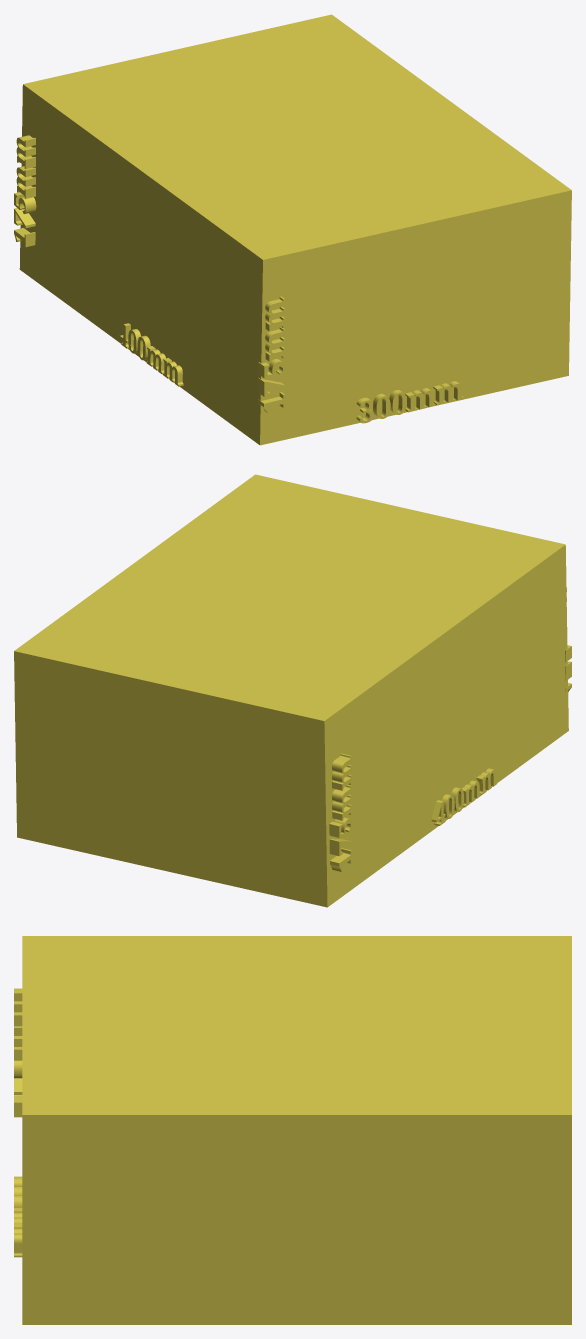
Rendered from SwankyVihelmo.glb.
3 views of the same model, one above another, from view 1: azimuth 30°, elevation 25°; view 2: azimuth 150°, elevation 25°; view 3: azimuth 270°, elevation 25° (orthographic). The views are drawn at different scales.
Parts seen in each view (by area): view 1: Mesh_Mesh_head_geo.001_lambert2SG.001; view 2: Mesh_Mesh_head_geo.001_lambert2SG.001; view 3: Mesh_Mesh_head_geo.001_lambert2SG.001.
Part boxes in pixels (box(x1,y1,x2,y2)): Mesh_Mesh_head_geo.001_lambert2SG.001: box(14, 14, 571, 445); Mesh_Mesh_head_geo.001_lambert2SG.001: box(14, 474, 571, 907); Mesh_Mesh_head_geo.001_lambert2SG.001: box(14, 936, 571, 1324).
Bounding box in the file's own units: 0.3088 × 0.175 × 0.406.
